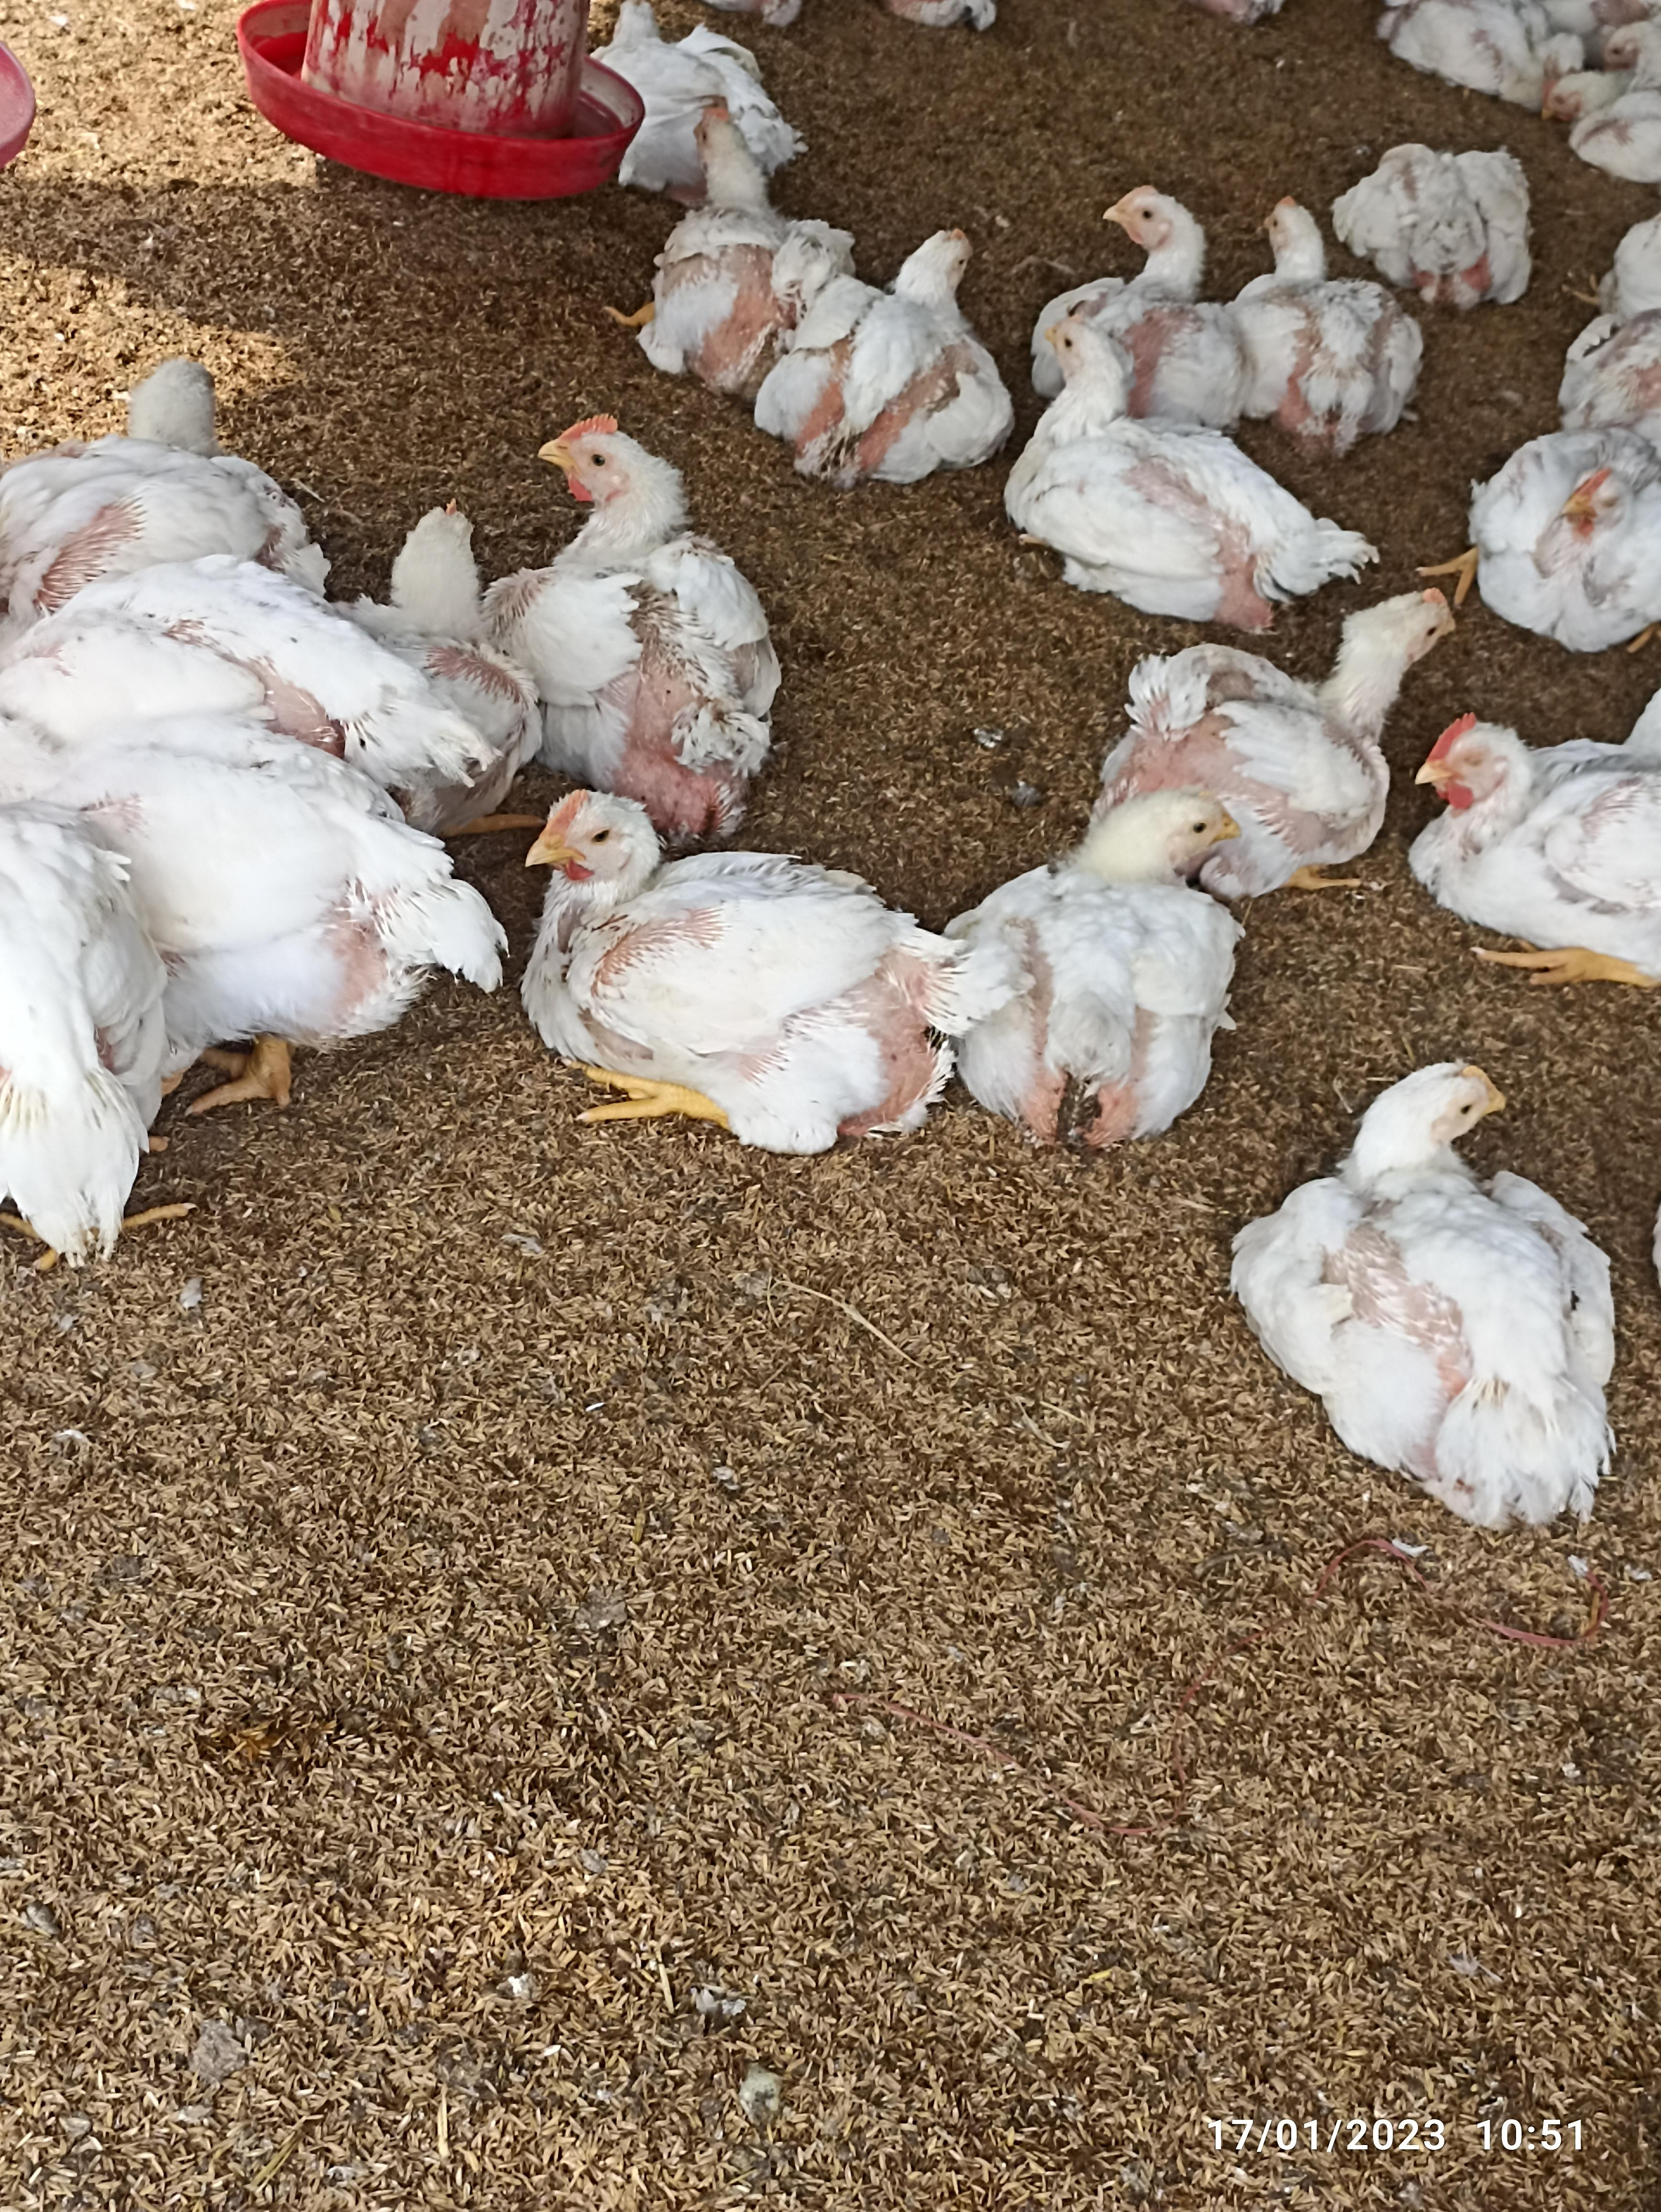Pollos: (1249, 1048, 1628, 1540), (5, 672, 471, 1066), (522, 789, 956, 1123), (487, 405, 768, 823), (1111, 579, 1455, 900), (0, 333, 323, 633), (963, 776, 1234, 1134), (1010, 324, 1371, 579), (1425, 722, 1661, 1005), (804, 220, 1014, 476), (637, 105, 808, 361), (1242, 202, 1415, 431), (1476, 427, 1661, 640), (1391, 145, 1541, 304), (1104, 185, 1227, 347)
